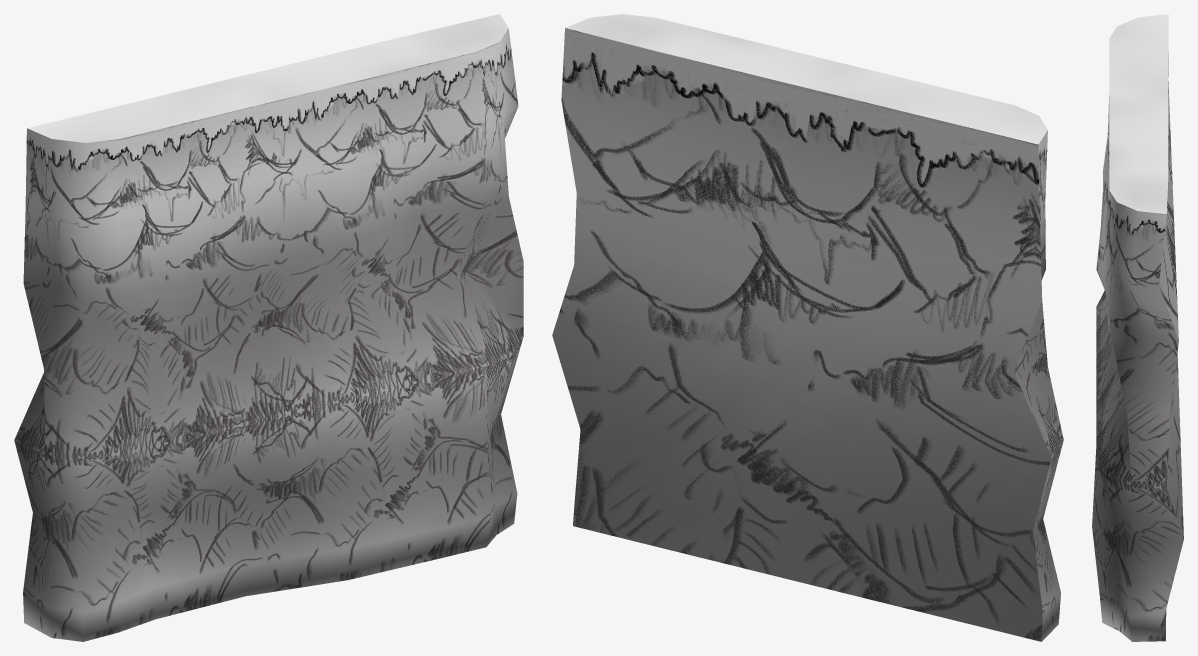
File: 16x2x16_Corner.fbx
3 views of the same model, side by side, from view 1: azimuth 30°, elevation 25°; view 2: azimuth 150°, elevation 25°; view 3: azimuth 270°, elevation 25° (orthographic). The views are drawn at different scales.
Parts seen in each view (by area): view 1: 16x2x16_Corner; view 2: 16x2x16_Corner; view 3: 16x2x16_Corner.
Boxes of the visible parts, left/top/right/bottom form: 16x2x16_Corner: left=14, top=14, right=523, bottom=641; 16x2x16_Corner: left=552, top=14, right=1063, bottom=641; 16x2x16_Corner: left=1092, top=14, right=1183, bottom=641.
Bounding box in the file's own units: 1687 × 1600 × 310.
